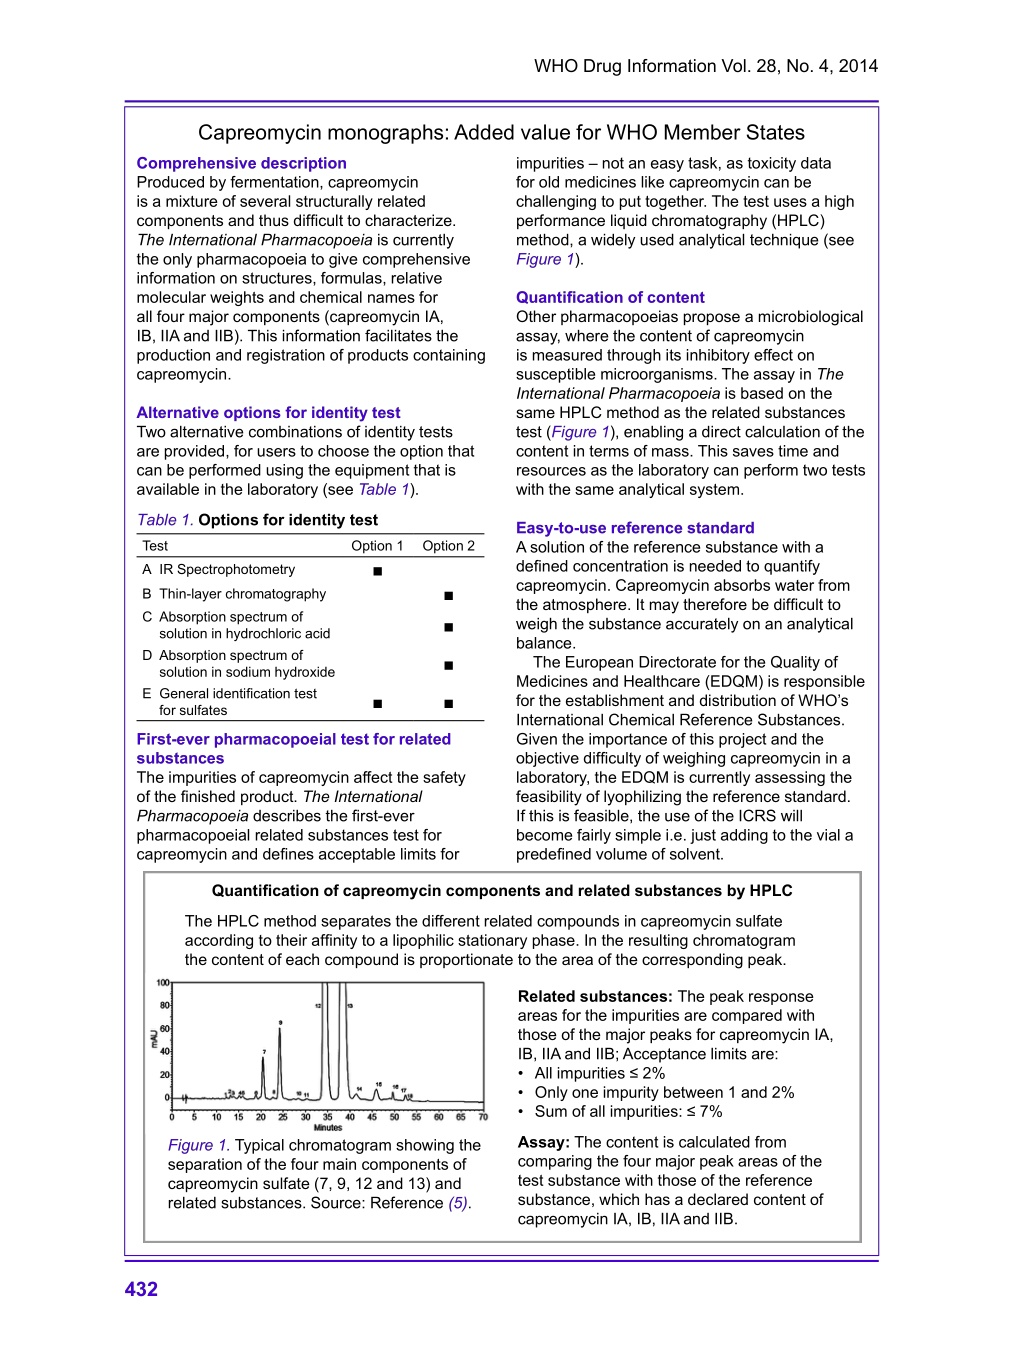partial_lined: (134, 531, 487, 723)
